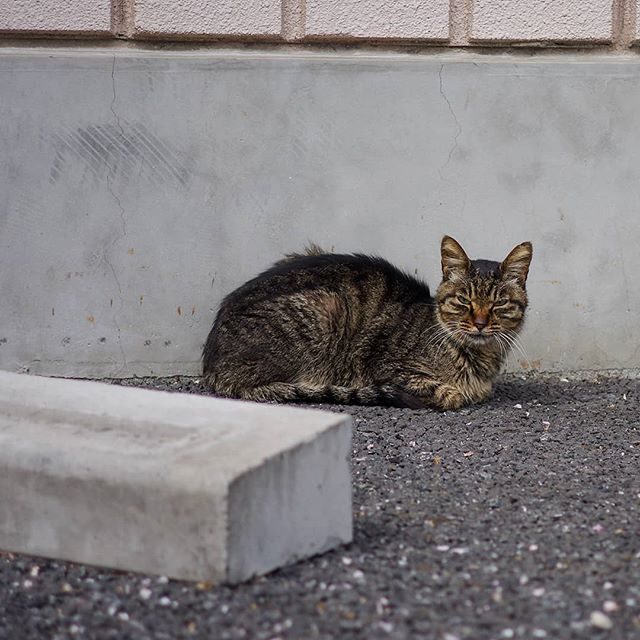animal: (177, 224, 536, 431)
